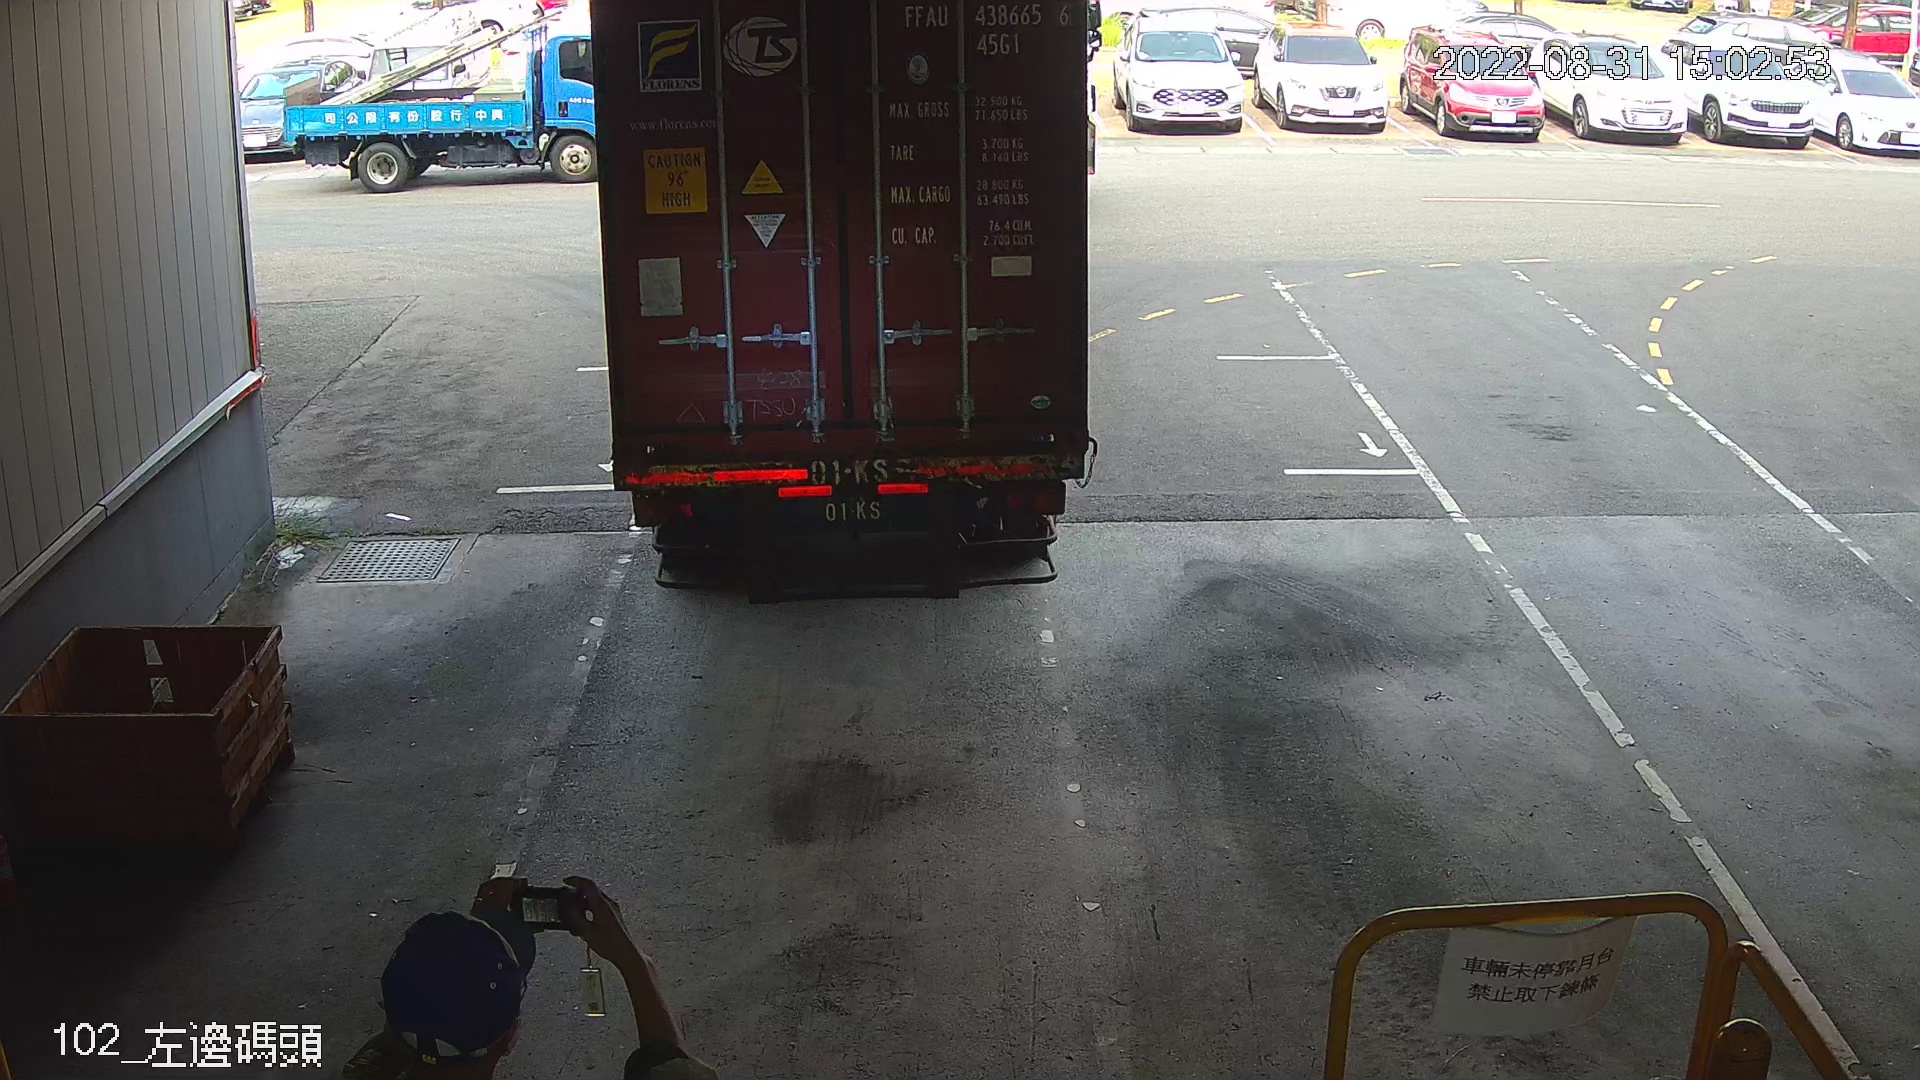container: (897, 1, 1079, 61)
